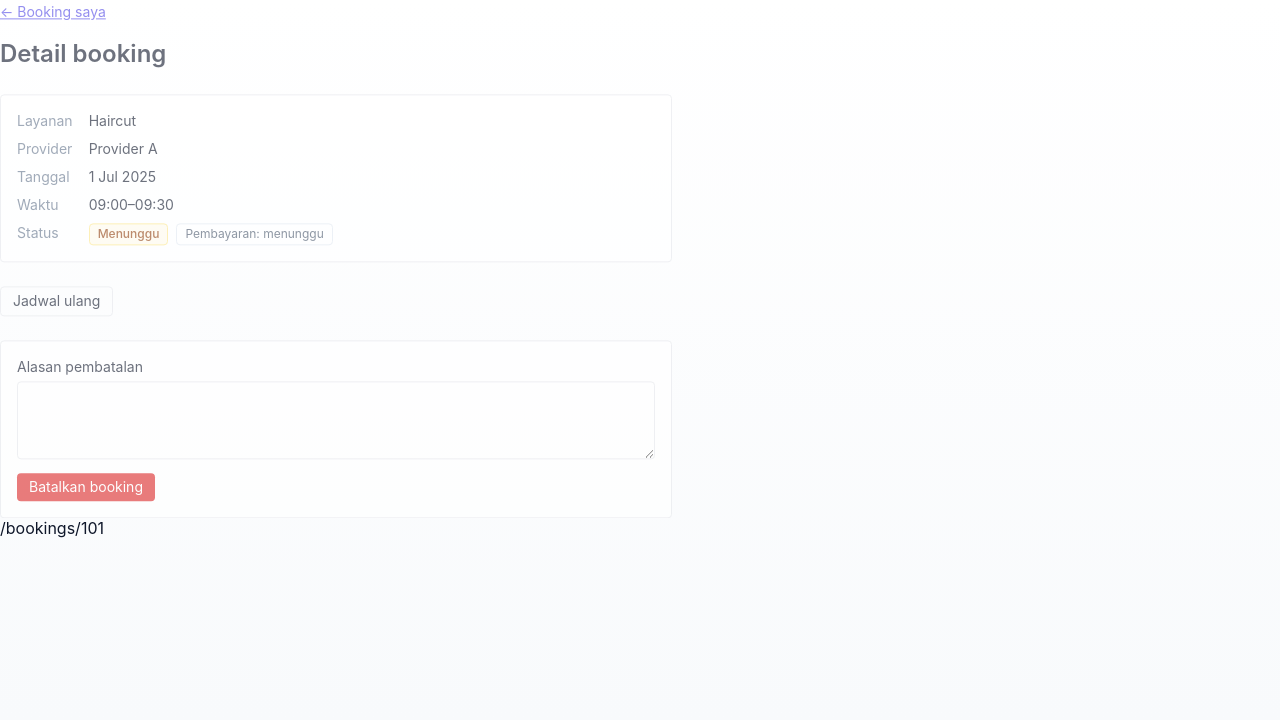
Test: BookingDetailPage › shows the conflict message on 409
The width and height of the screenshot is (1280, 720).
Click the button "Jadwal ulang" at [57, 301], box [0,286,114,316]
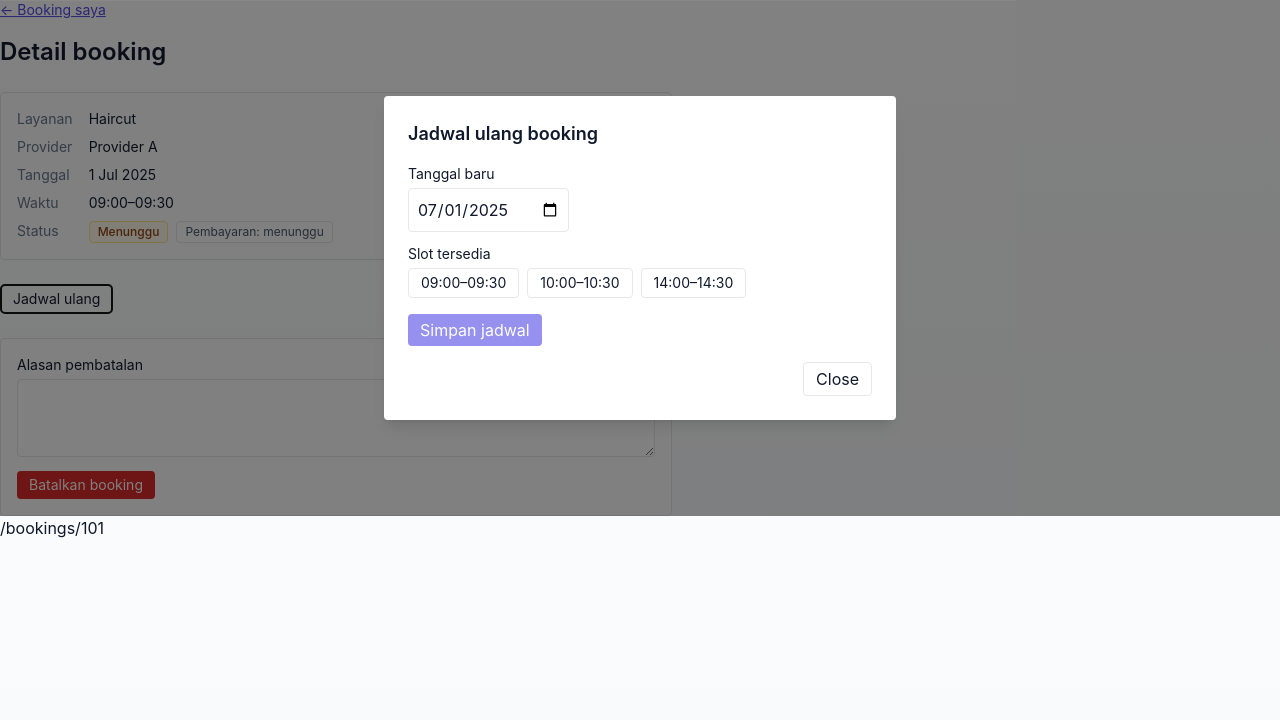
Click the button "09:00–09:30" at [464, 283], box [408,268,519,298]
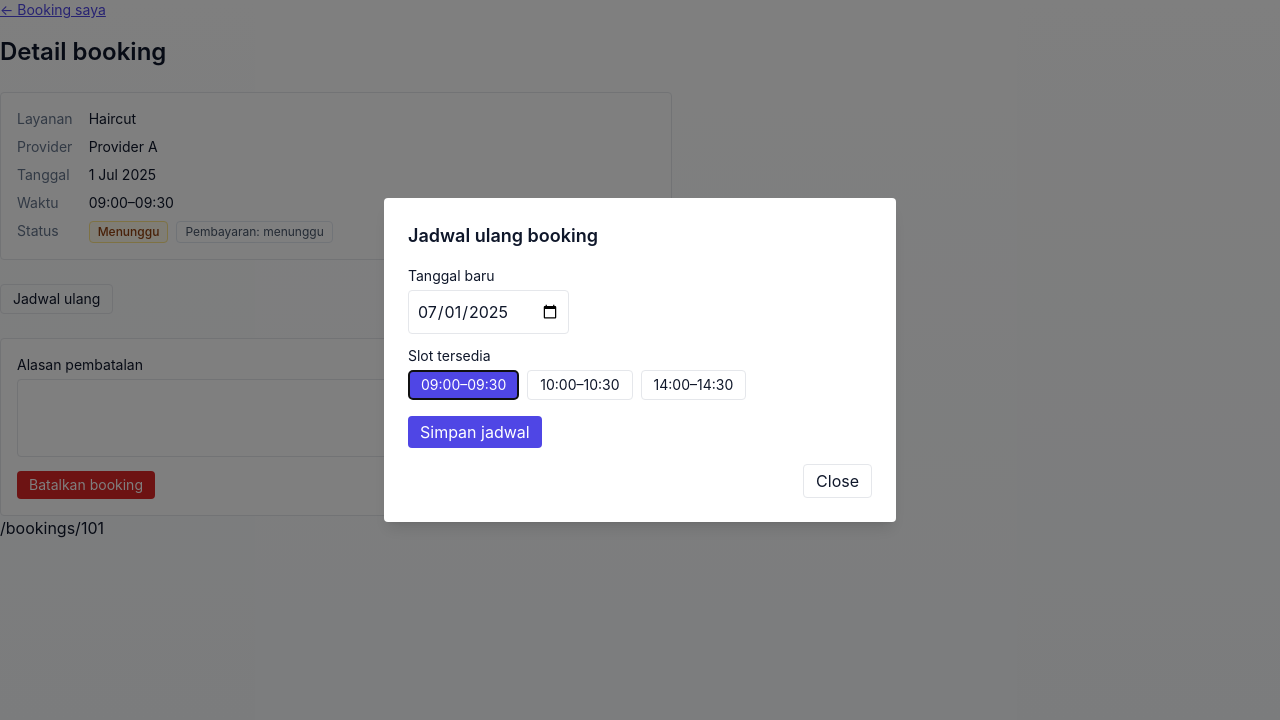
Click the button "Simpan jadwal" at [475, 432], box [408,416,542,448]
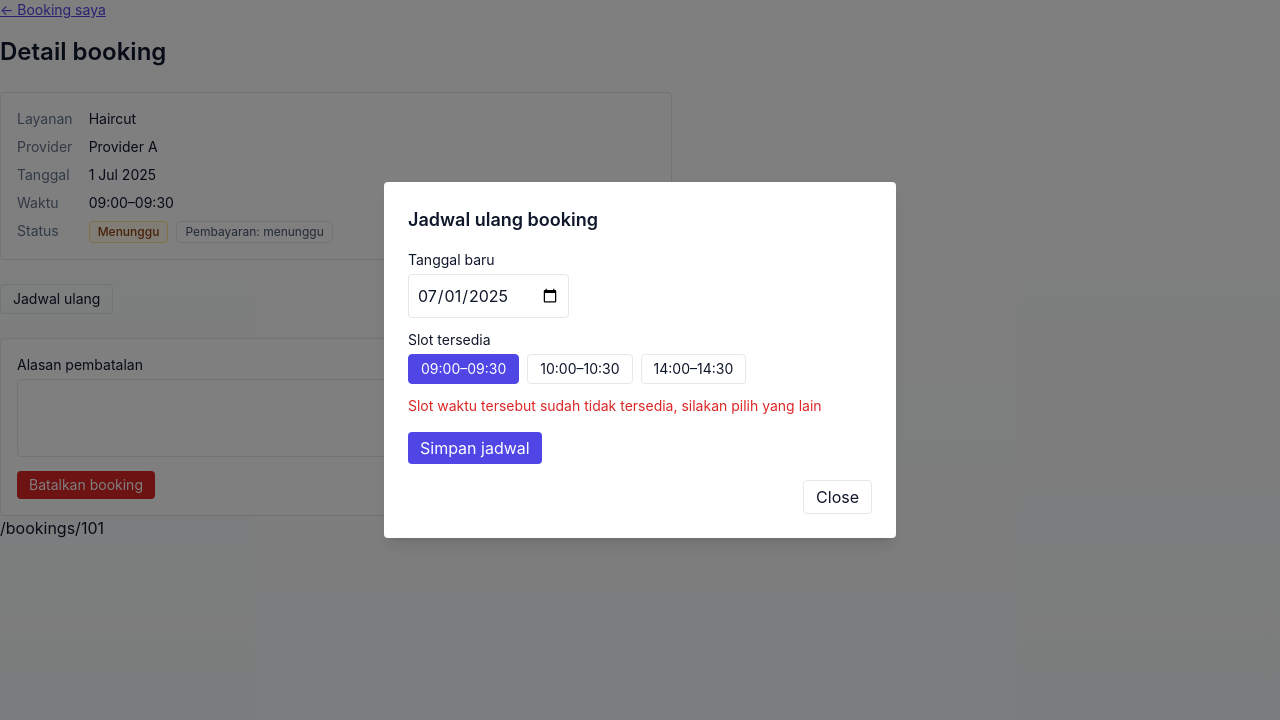
expect the dialog is shown: met, box [384,182,896,538]
expect the message reads "Slot waktu tersebut sudah tidak tersedia, silakan pilih yang lain": met, box [408,397,822,414]
